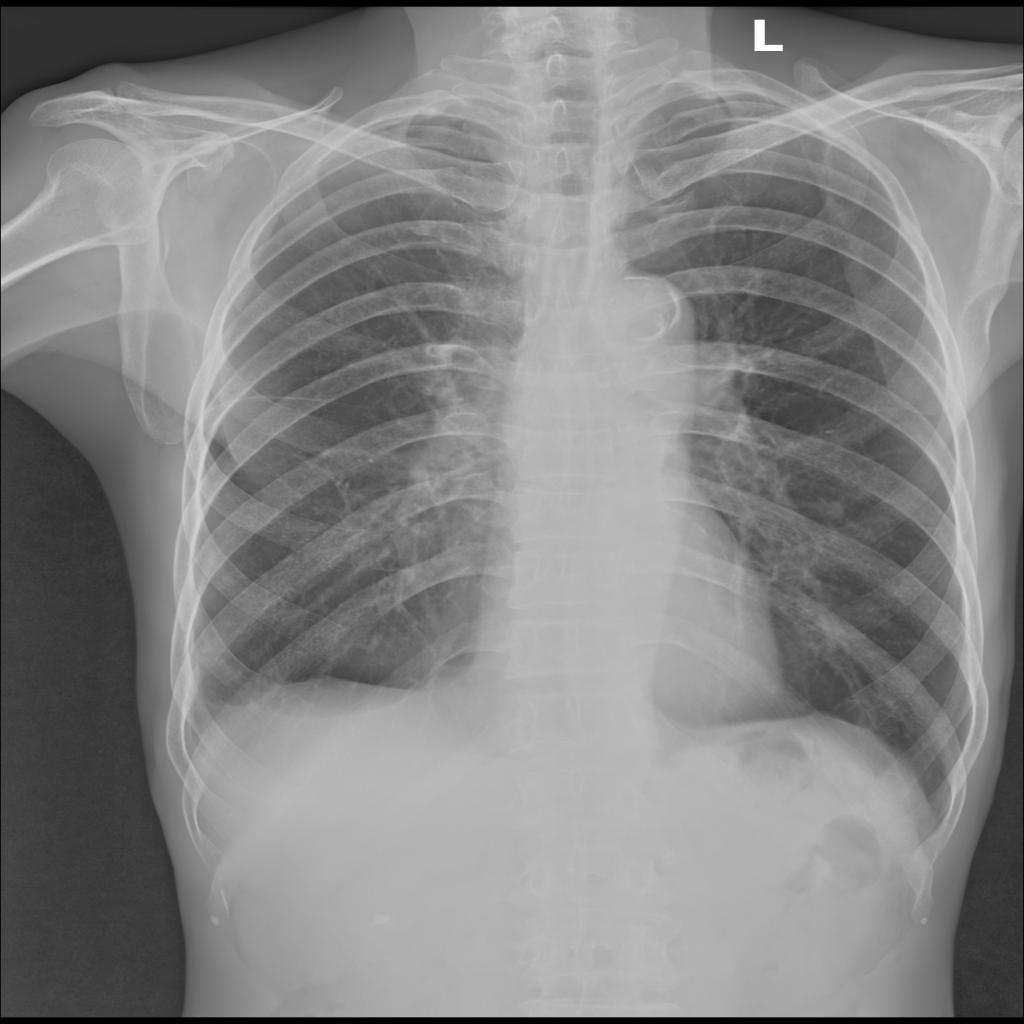Nodule: (823, 498, 847, 523)
